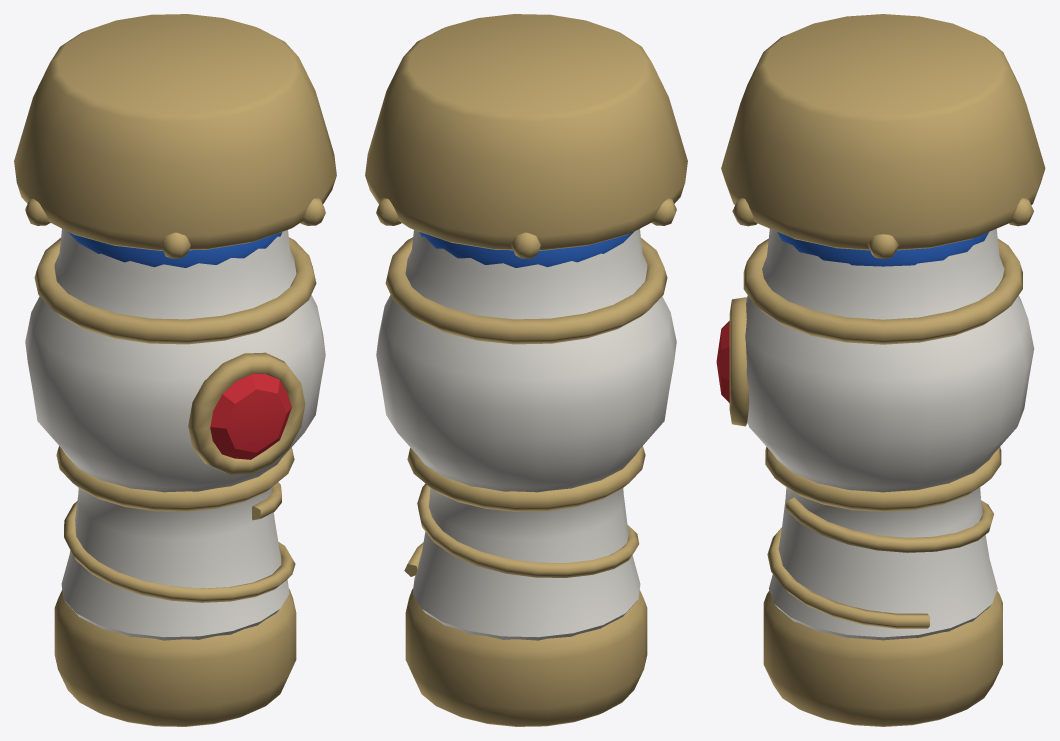
The model's file is Kit_Limb_Fantasy_S.glb.
3 renders of one model, left to right at view 1: azimuth 30°, elevation 25°; view 2: azimuth 150°, elevation 25°; view 3: azimuth 270°, elevation 25°, orthographic.
Parts seen in each view (by area): view 1: Kit_Limb_Fantasy_S; view 2: Kit_Limb_Fantasy_S; view 3: Kit_Limb_Fantasy_S.
Boxes of the visible parts, x1,y1,x2,y2 form: Kit_Limb_Fantasy_S: (14, 14, 336, 726); Kit_Limb_Fantasy_S: (365, 14, 687, 726); Kit_Limb_Fantasy_S: (716, 14, 1045, 726).
Size of the model in its own units: 0.1253 by 0.2492 by 0.12.
